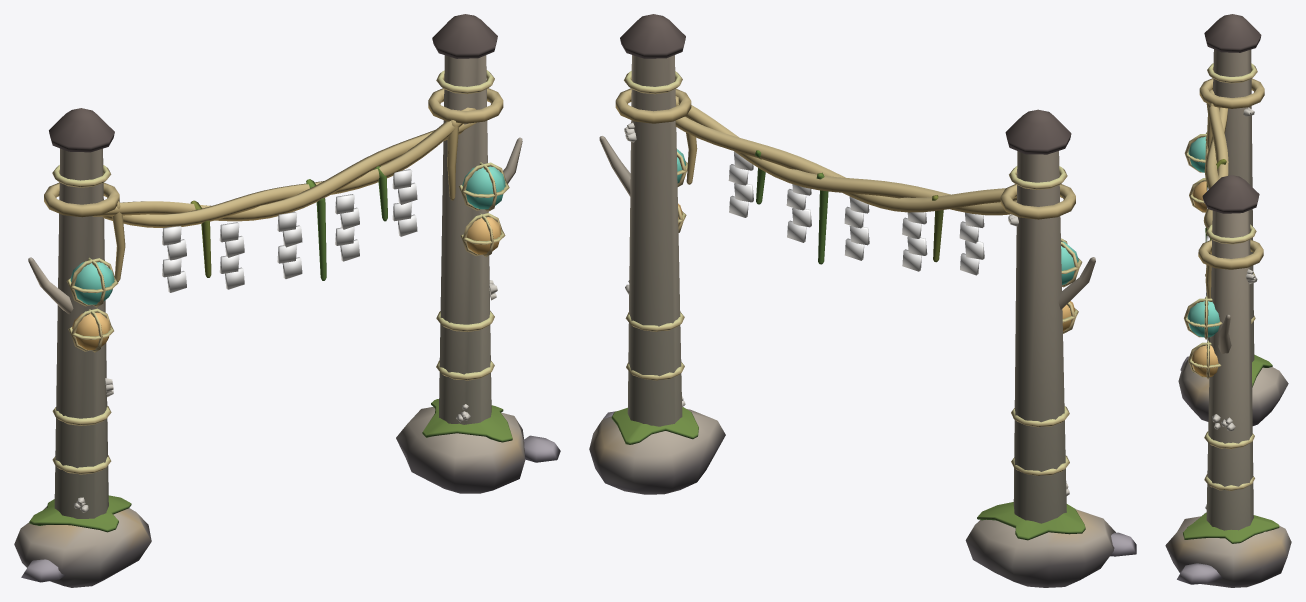
File: rg-tidepool-arenaGate.glb
3 views of the same model, side by side, from view 1: azimuth 30°, elevation 25°; view 2: azimuth 150°, elevation 25°; view 3: azimuth 270°, elevation 25° (orthographic). The views are drawn at different scales.
Visible parts, largest first — view 1: rg-tidepool-arenaGate, rg-tidepool-arenaGate_cloth, rg-tidepool-arenaGate_glow; view 2: rg-tidepool-arenaGate, rg-tidepool-arenaGate_cloth, rg-tidepool-arenaGate_glow; view 3: rg-tidepool-arenaGate, rg-tidepool-arenaGate_glow.
Boxes of the visible parts, x1=… form: rg-tidepool-arenaGate: x1=14, y1=14, x2=560, y2=587; rg-tidepool-arenaGate_cloth: x1=162, y1=169, x2=417, y2=292; rg-tidepool-arenaGate_glow: x1=70, y1=166, x2=505, y2=349; rg-tidepool-arenaGate: x1=589, y1=14, x2=1136, y2=587; rg-tidepool-arenaGate_cloth: x1=728, y1=151, x2=984, y2=275; rg-tidepool-arenaGate_glow: x1=677, y1=149, x2=1078, y2=331; rg-tidepool-arenaGate: x1=1165, y1=14, x2=1291, y2=587; rg-tidepool-arenaGate_glow: x1=1187, y1=136, x2=1219, y2=376.
Bounding box in the file's own units: 4.6 × 3.86 × 1.09.
